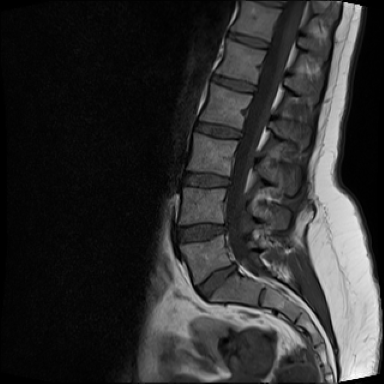Lumbar Disc Bulge (LDB): (190, 259, 244, 306), (174, 220, 233, 248)
Normal IVD: (190, 116, 245, 144), (207, 71, 260, 98), (179, 167, 234, 191), (224, 31, 274, 54)
Spinal Stenosis (SS): (218, 217, 232, 237), (227, 259, 239, 277)
